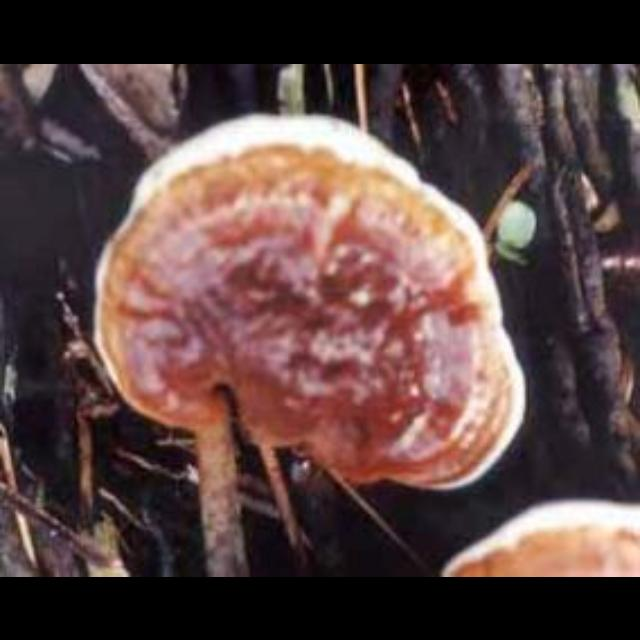ganoderma: (90, 112, 531, 495), (439, 497, 640, 578)
